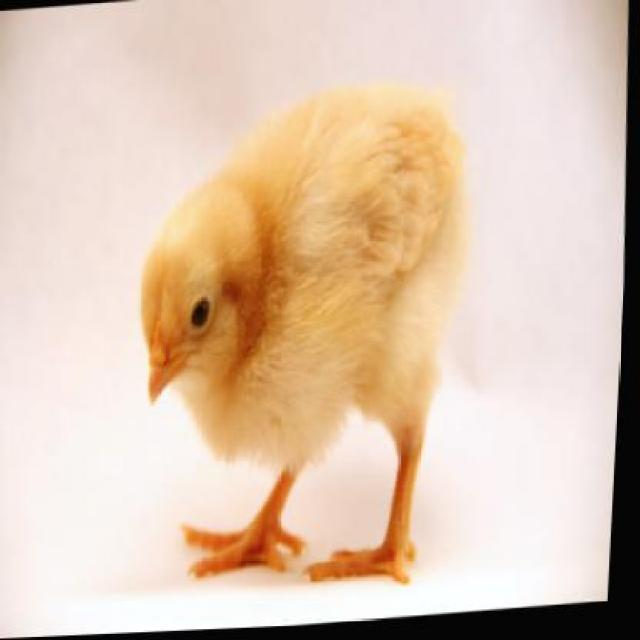poussin: (128, 81, 482, 585)
